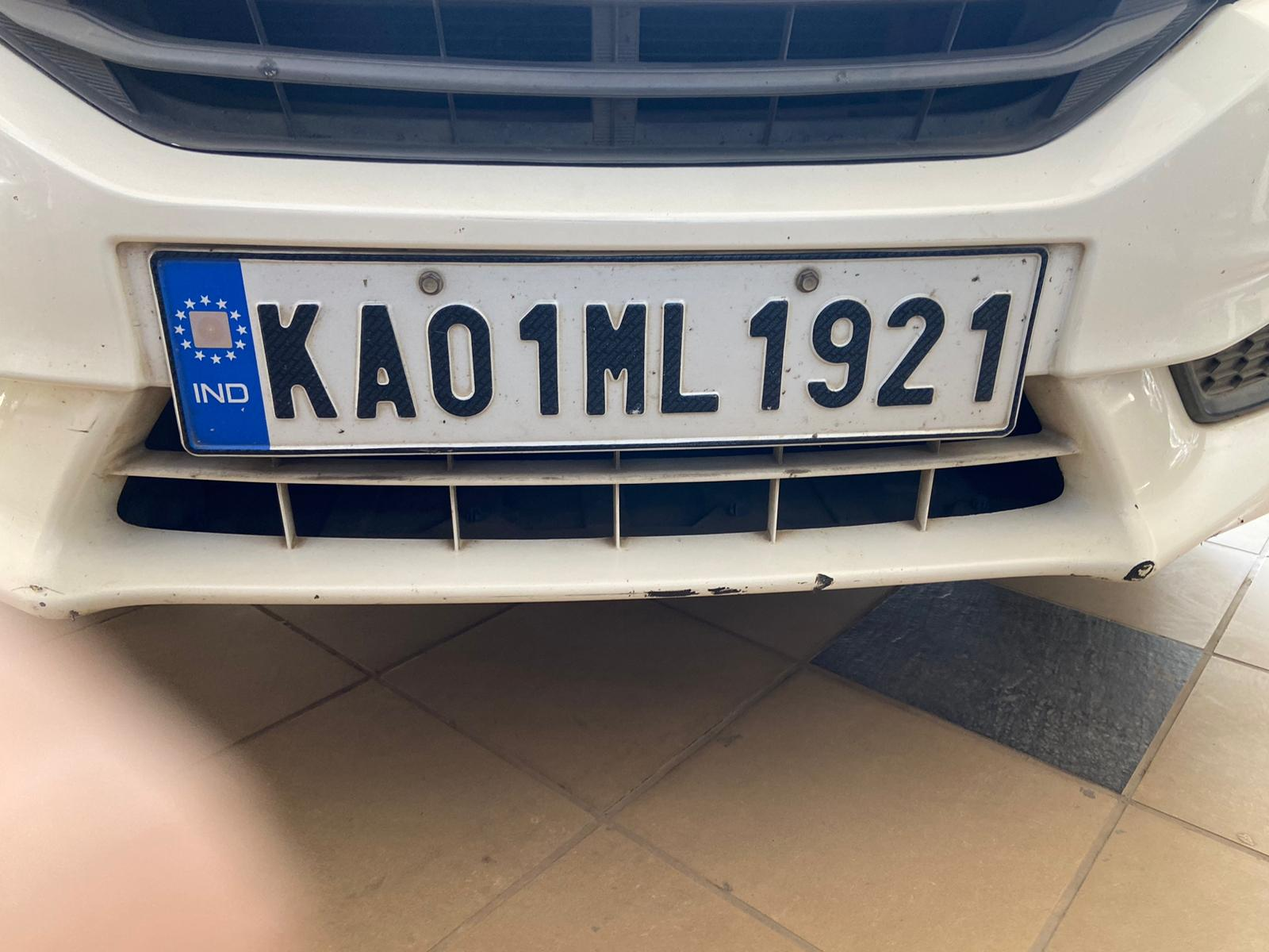0: (423, 300, 501, 429)
1: (510, 298, 572, 429), (742, 298, 799, 424), (960, 284, 1011, 413)
2: (873, 292, 953, 429)
9: (801, 288, 878, 422)
A: (347, 296, 423, 437)
K: (250, 292, 339, 432)
L: (655, 296, 727, 425)
M: (579, 292, 650, 425)
